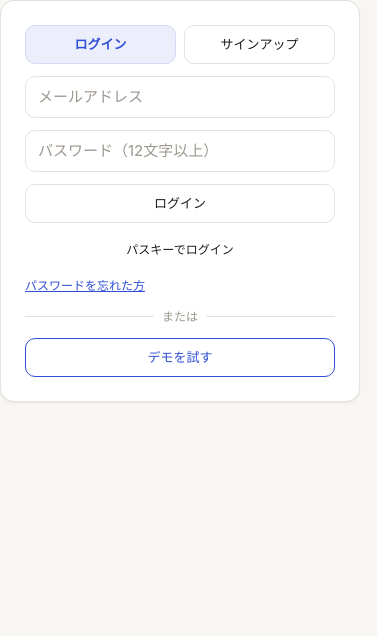
Test case: 未検証ログイン(403)は汎用エラーではなく専用案内を表示する
This screenshot has width=377, height=636.
Type "user@example.com" into the field with placeholder "メールアドレス". click: {"x": 180, "y": 97}
box: [25,76,335,118]
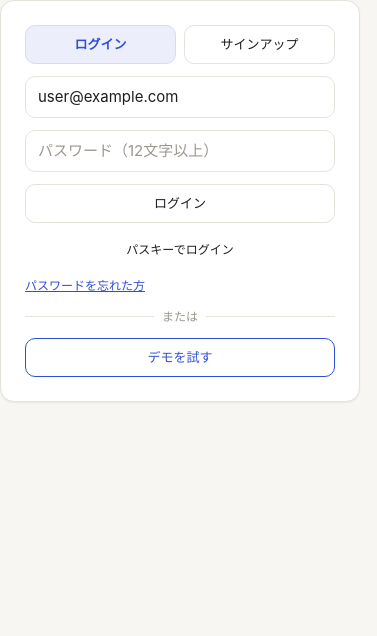
Type "password1234" into the password field with placeholder "パスワード（12文字以上）". click: {"x": 180, "y": 151}
box: [25,130,335,172]
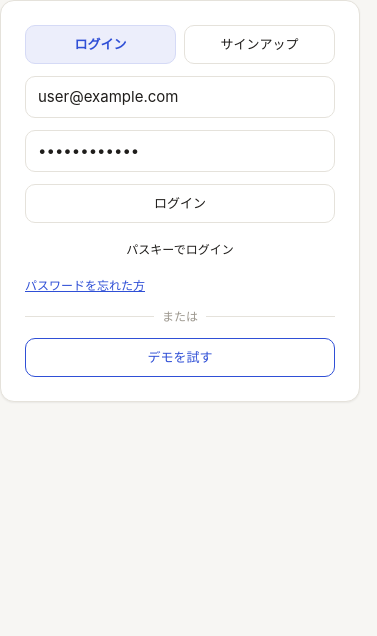
Click the 2nd button "ログイン". click: {"x": 180, "y": 203}
box: [25,184,335,223]
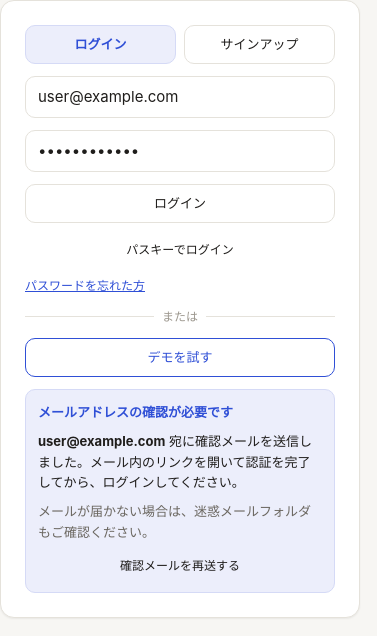
Expected: the text "メールアドレスの確認が必要です" is shown, [38,404,233,420]
Expected: the text "user@example.com" is shown, [38,433,165,449]
